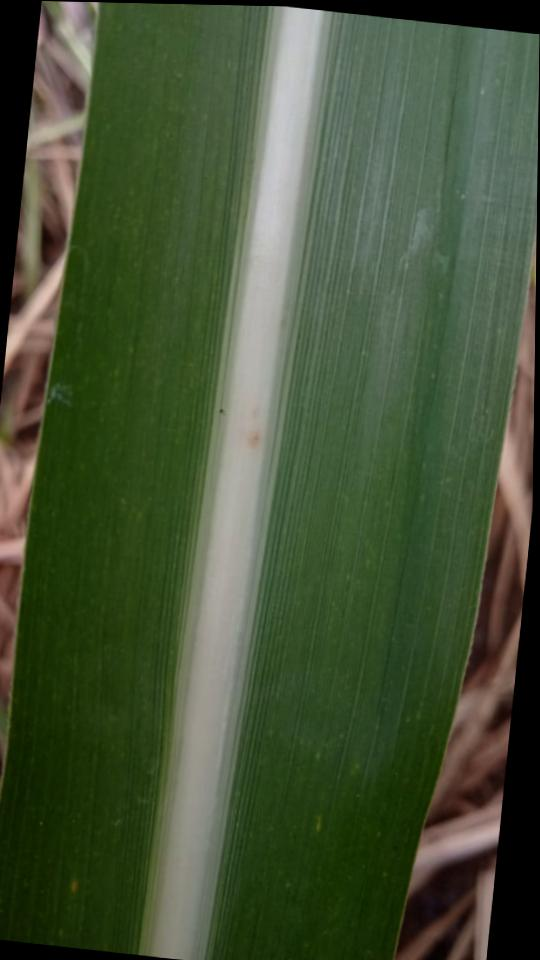Healthy: (0, 2, 540, 960)
